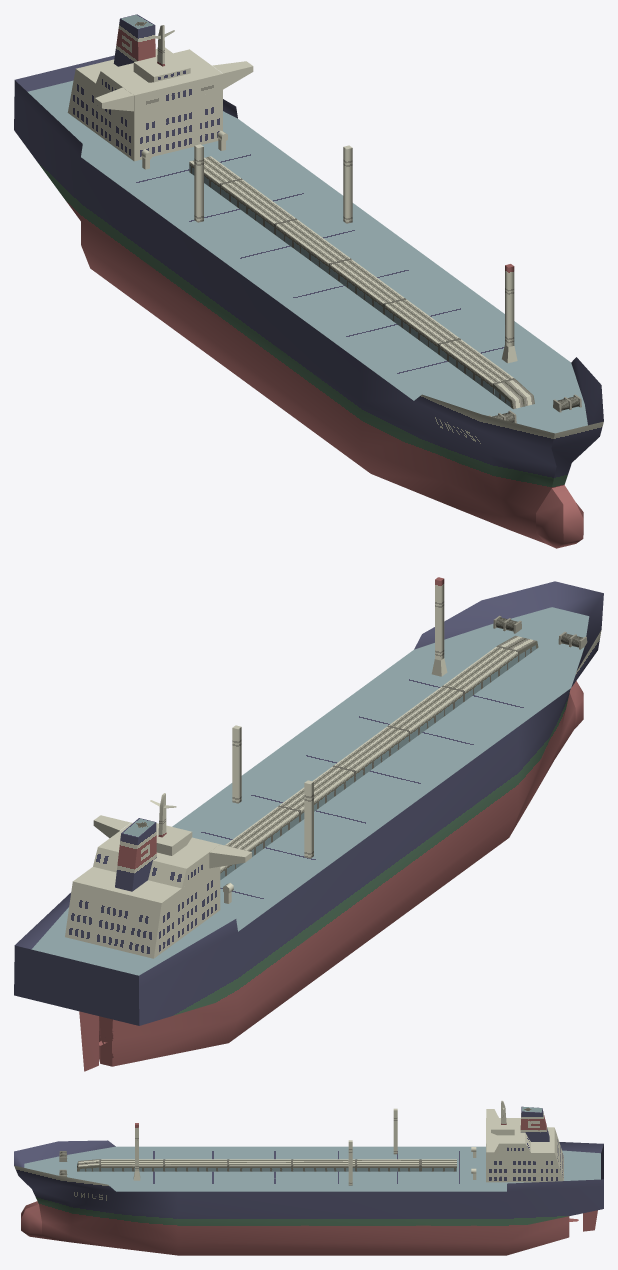
The model's file is 0393_Oil_Tanker.glb.
3 renders of one model, top to bottom at view 1: azimuth 30°, elevation 25°; view 2: azimuth 150°, elevation 25°; view 3: azimuth 270°, elevation 25°, orthographic. The views are drawn at different scales.
Visible parts, largest first — view 1: part_0; view 2: part_0; view 3: part_0.
Boxes of the visible parts, <box> form: part_0: <box>14,14,603,548</box>; part_0: <box>14,577,603,1071</box>; part_0: <box>14,1100,603,1255</box>.
Size of the model in its own units: 51.26 by 71.6 by 284.
1 material, 1 textured.
